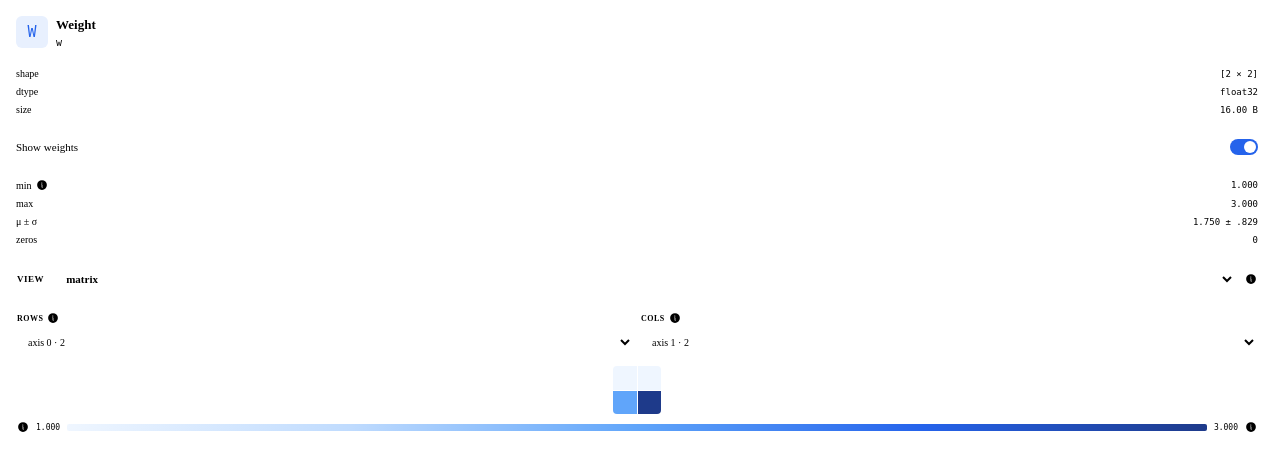
Test: diagnostics supports finding selection
Select "diagnostics" in the dropdown named "Weight inspector" at (645, 279), box [54, 264, 1235, 294]
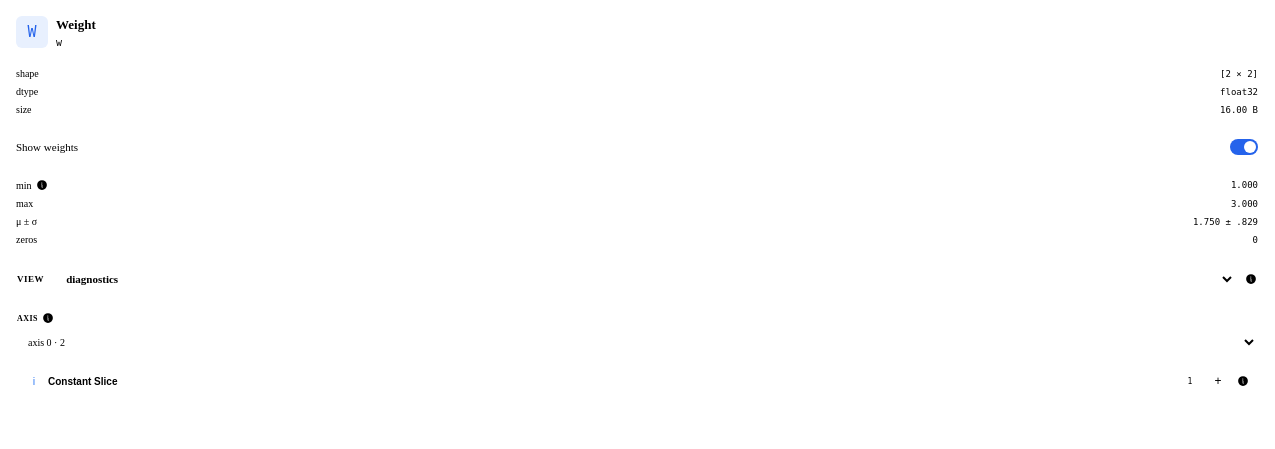
Click the button "i constant slice 1 +" at (83, 381), box [17, 366, 1233, 396]
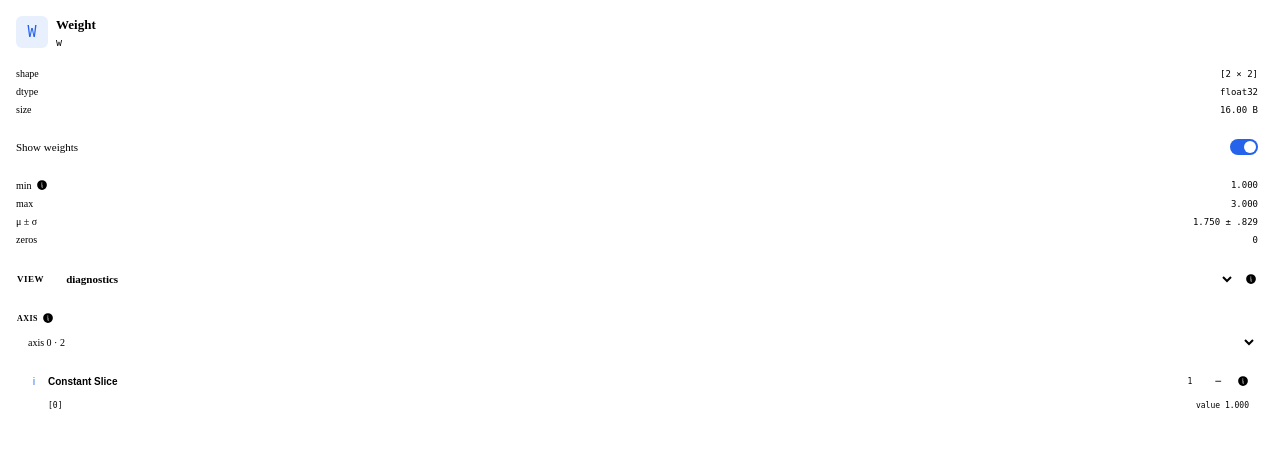
expect the text "[0]" is shown: met, box [48, 401, 62, 410]
